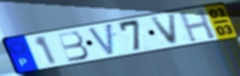1: (34, 34, 59, 66)
7: (116, 19, 144, 53)
B: (55, 30, 91, 63)
H: (177, 7, 218, 43)
V: (86, 22, 115, 58), (149, 12, 179, 46)
